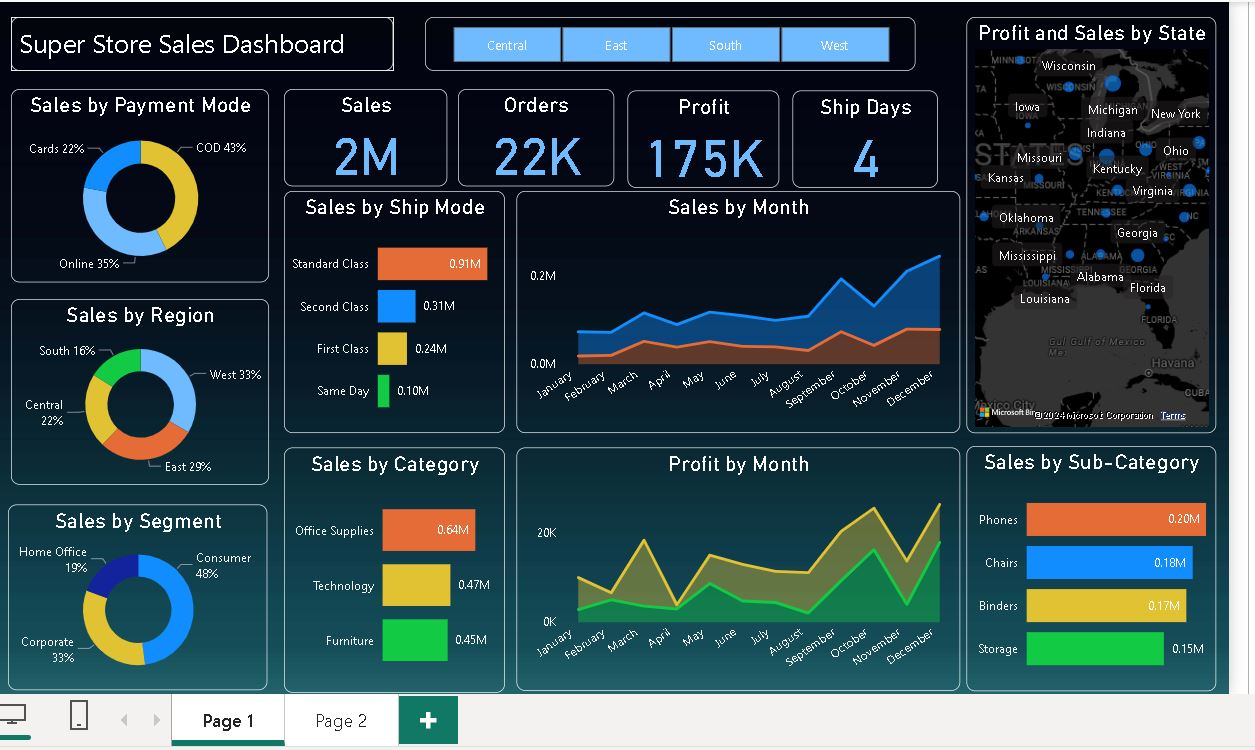

Layout of this report page (visuals, bound fields, positions):
{"tool":"powerbi","page":{"name":"Page 1","canvas":[1280,720],"ordinal":0},"visuals":[{"type":"card","title":"Sales","fields":{"Values":["Sum(SuperStore_Sales_Dataset.Sales)"]},"box":[296.7,90.6,170.2,101.5],"z":0},{"type":"card","title":"Orders","fields":{"Values":["Sum(SuperStore_Sales_Dataset.Quantity)"]},"box":[477.9,90.6,162.4,101.5],"z":1000},{"type":"card","title":"Profit","fields":{"Values":["Sum(SuperStore_Sales_Dataset.Profit)"]},"box":[654.4,92.1,157.7,101.5],"z":2000},{"type":"card","title":"Ship Days","fields":{"Values":["Avg(SuperStore_Sales_Dataset.Ship_days)"]},"box":[826.2,92.1,151.5,101.5],"z":3000},{"type":"donutChart","title":"Sales by Payment Mode","fields":{"Y":["Sum(SuperStore_Sales_Dataset.Sales)"],"Category":["SuperStore_Sales_Dataset.Payment Mode"]},"box":[12.5,90.6,268.6,201.5],"z":4000},{"type":"donutChart","title":"Sales by Region","fields":{"Y":["Sum(SuperStore_Sales_Dataset.Sales)"],"Category":["SuperStore_Sales_Dataset.Region"]},"box":[12.5,309.2,268.6,193.7],"z":5000},{"type":"donutChart","title":"Sales by Segment","fields":{"Y":["Sum(SuperStore_Sales_Dataset.Sales)"],"Category":["SuperStore_Sales_Dataset.Segment"]},"box":[10,523.3,270,193.3],"z":6000},{"type":"barChart","title":"Sales by Ship Mode","fields":{"Y":["Sum(SuperStore_Sales_Dataset.Sales)"],"Category":["SuperStore_Sales_Dataset.Ship Mode"]},"box":[296.7,196.7,230,251.7],"z":7000},{"type":"barChart","title":"Sales by Category","fields":{"Y":["Sum(SuperStore_Sales_Dataset.Sales)"],"Category":["SuperStore_Sales_Dataset.Category"]},"box":[296.7,463.3,230,255],"z":8000},{"type":"stackedAreaChart","title":"Sales by Month ","fields":{"Y":["Sum(SuperStore_Sales_Dataset.Sales)"],"Series":["SuperStore_Sales_Dataset.Order Date.Variation.Date Hierarchy.Year"],"Category":["SuperStore_Sales_Dataset.Order Date.Variation.Date Hierarchy.Month"]},"box":[538.3,196.7,461.7,251.7],"z":9000},{"type":"stackedAreaChart","title":"Profit by Month ","fields":{"Series":["SuperStore_Sales_Dataset.Order Date.Variation.Date Hierarchy.Year"],"Category":["SuperStore_Sales_Dataset.Order Date.Variation.Date Hierarchy.Month"],"Y":["Sum(SuperStore_Sales_Dataset.Profit)"]},"box":[538.3,463.3,461.7,253.3],"z":10000},{"type":"barChart","title":"Sales by Sub-Category","fields":{"Y":["Sum(SuperStore_Sales_Dataset.Sales)"],"Category":["SuperStore_Sales_Dataset.Sub-Category"]},"box":[1006.7,461.7,260,255],"z":11000},{"type":"map","title":" Profit and Sales by State","fields":{"Size":["Sum(SuperStore_Sales_Dataset.Profit)"],"Category":["SuperStore_Sales_Dataset.State"]},"box":[1006.7,15,260,433.3],"z":12000},{"type":"textbox","box":[12.5,15.6,398.3,56.2],"z":13000},{"type":"slicer","fields":{"Values":["SuperStore_Sales_Dataset.Region"]},"box":[443.6,15.6,510.7,56.2],"z":14000}]}

Visuals, with their boxes on the page's 1280x720 design canvas (x1, y1, x2, y2). These are canvas units, not pixel positions in the 1255x750 screenshot, which may show the page scaled, cropped or inside an application window:
"Sales" card: (297,91,467,192)
"Orders" card: (478,91,640,192)
"Profit" card: (654,92,812,194)
"Ship Days" card: (826,92,978,194)
"Sales by Payment Mode" donutChart: (12,91,281,292)
"Sales by Region" donutChart: (12,309,281,503)
"Sales by Segment" donutChart: (10,523,280,717)
"Sales by Ship Mode" barChart: (297,197,527,448)
"Sales by Category" barChart: (297,463,527,718)
"Sales by Month " stackedAreaChart: (538,197,1000,448)
"Profit by Month " stackedAreaChart: (538,463,1000,717)
"Sales by Sub-Category" barChart: (1007,462,1267,717)
" Profit and Sales by State" map: (1007,15,1267,448)
textbox: (12,16,411,72)
slicer - SuperStore_Sales_Dataset.Region: (444,16,954,72)
